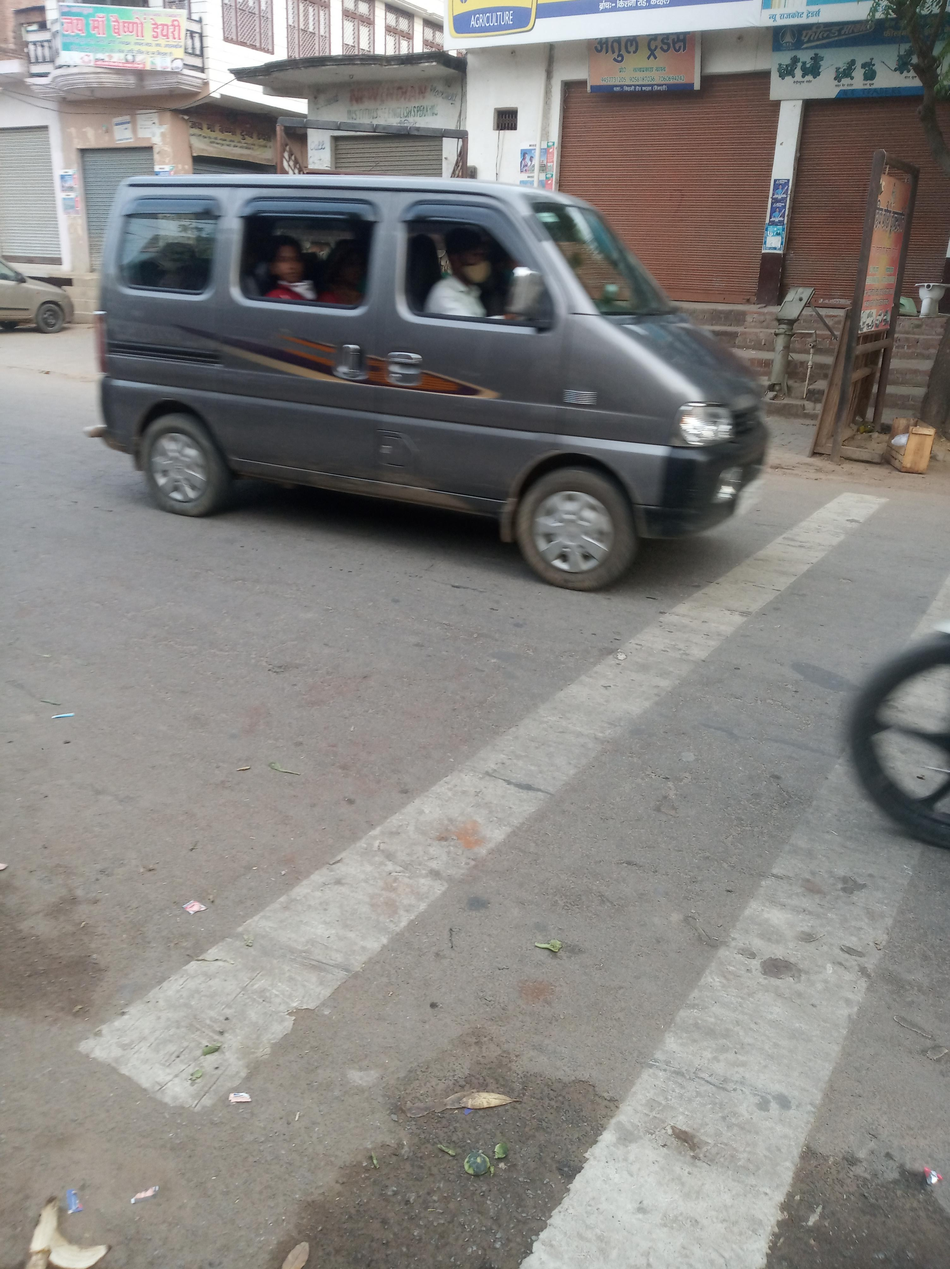Non-emergency: (61, 94, 792, 622)
